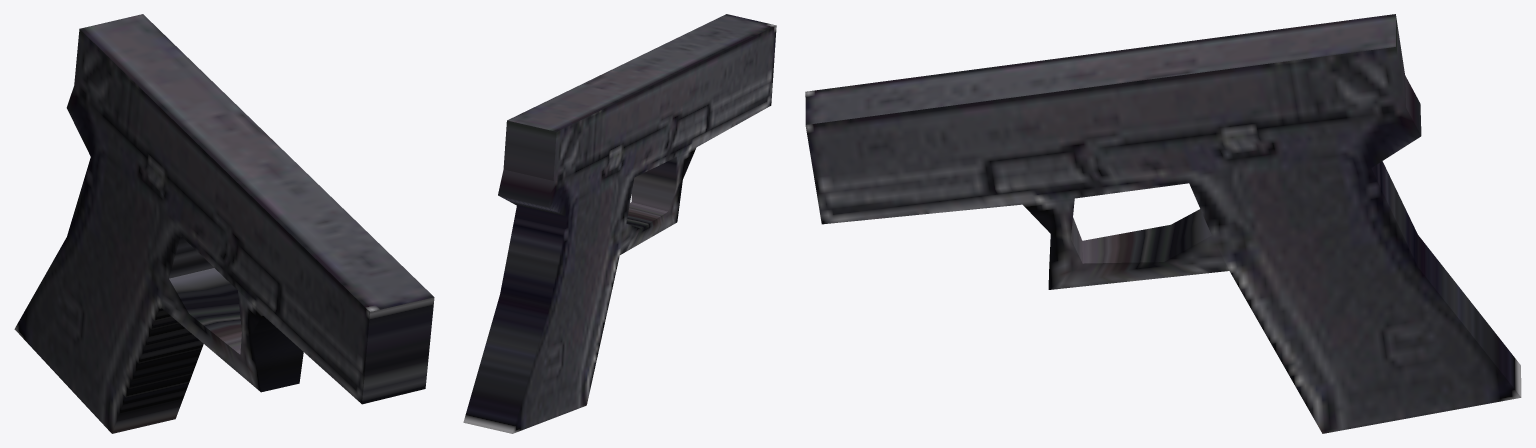
Rendered from glock18-world.glb.
3 renders of one model, left to right at view 1: azimuth 30°, elevation 25°; view 2: azimuth 150°, elevation 25°; view 3: azimuth 270°, elevation 25°, orthographic. The views are drawn at different scales.
Visible parts, largest first — view 1: glock18 held; view 2: glock18 held; view 3: glock18 held.
Part boxes in pixels (left/top/right/bottom): glock18 held: left=14, top=14, right=434, bottom=433; glock18 held: left=463, top=14, right=776, bottom=433; glock18 held: left=805, top=14, right=1521, bottom=433.
Size of the model in its own units: 0.025 by 0.1258 by 0.2095.
1 material, 1 textured.
